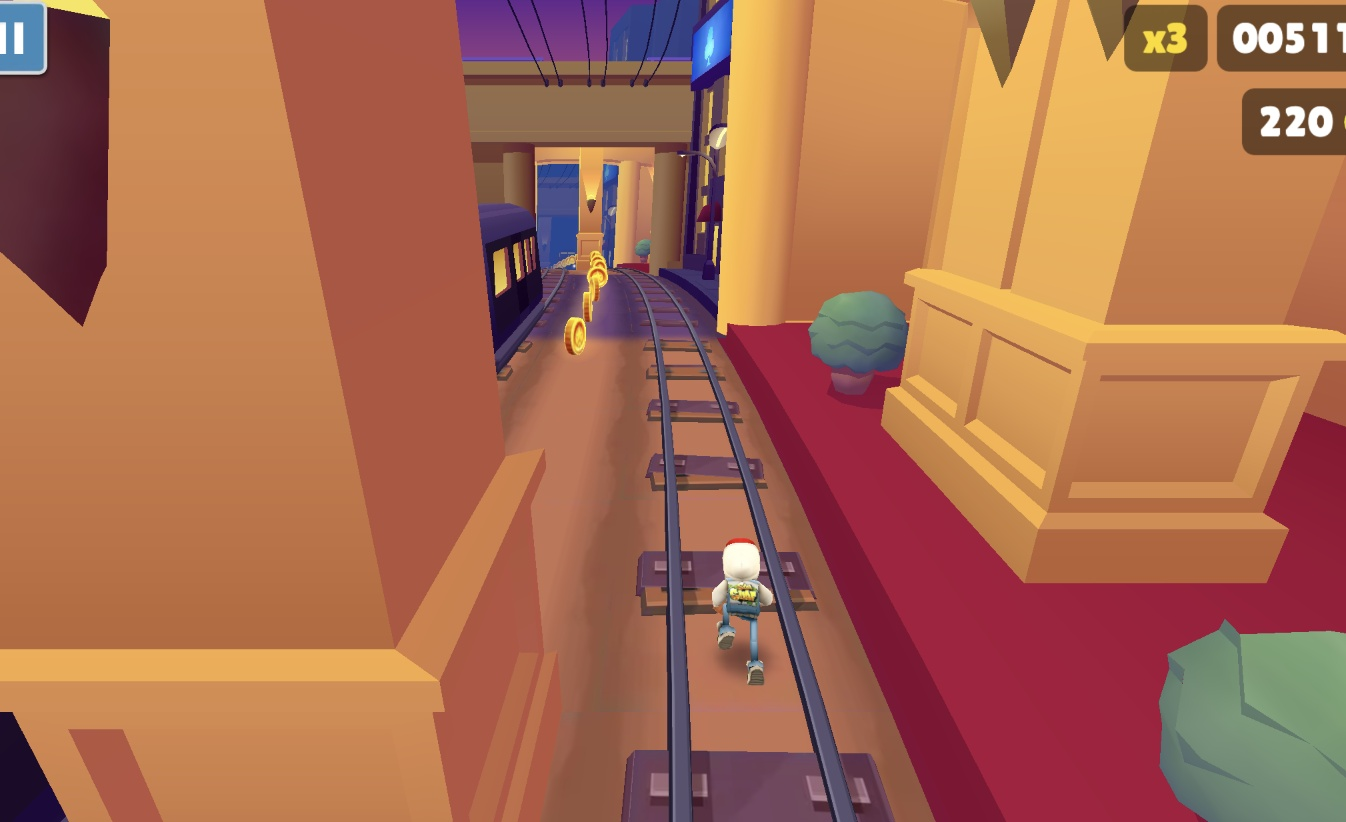pillar: (0, 0, 532, 822), (574, 148, 616, 272)
train: (476, 204, 540, 368)
